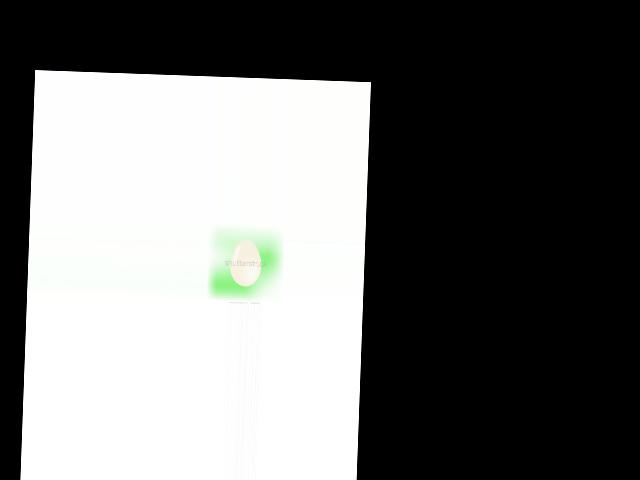egg: (229, 239, 262, 286)
